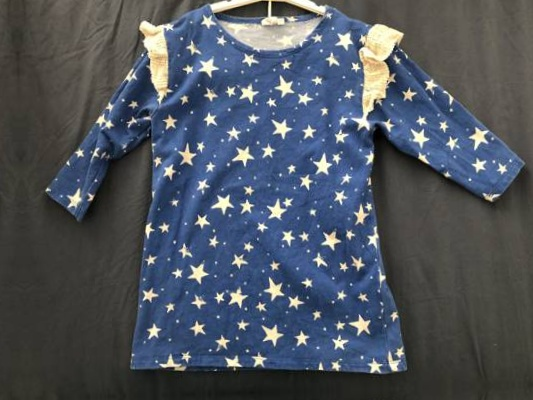Dress: (56, 0, 527, 385), (68, 399, 533, 400)
